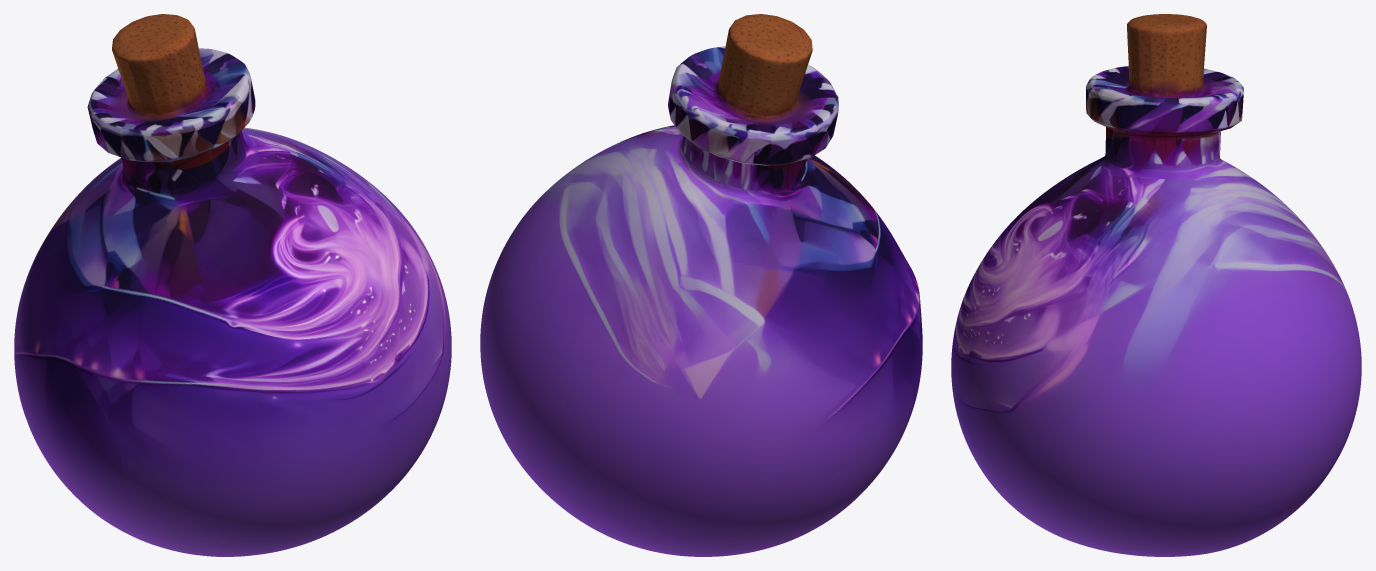
The model's file is pixellabs-magic-potion-3d-model-2688.high.glb.
The picture shows the model from 3 angles, left to right: view 1: azimuth 30°, elevation 25°; view 2: azimuth 150°, elevation 25°; view 3: azimuth 270°, elevation 25°; orthographic projection. The views are drawn at different scales.
Parts seen in each view (by area): view 1: material; view 2: material; view 3: material.
Boxes of the visible parts, x1,y1,x2,y2 form: material: (14,14,451,556); material: (480,14,922,556); material: (951,14,1361,556).
Bounding box in the file's own units: 0.8887 × 1.16 × 0.8826.
1 material, 1 textured.
